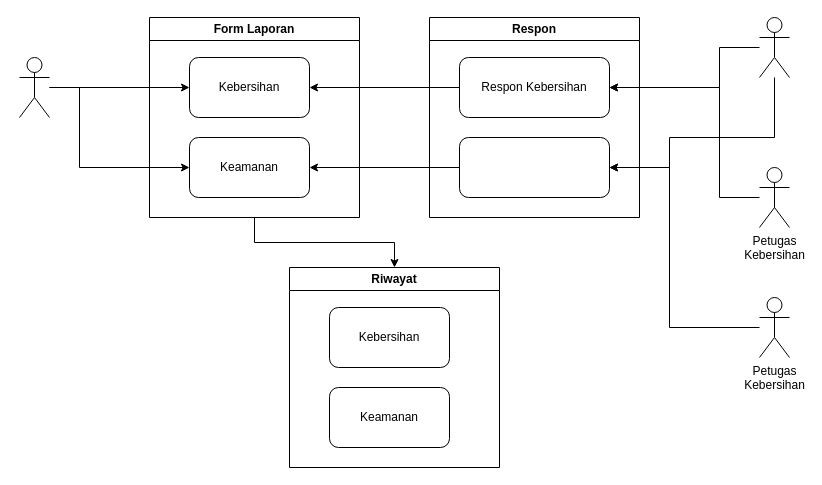
The diagram is 822 pixels wide and 485 high, and some of its shapes have lost their labels. The centre of each missing label's shape, as x and y in pixels:
"Admin" goes at pixel 774 47.
"Respon Keamanan" goes at pixel 534 167.
"Warga" goes at pixel 34 87.
